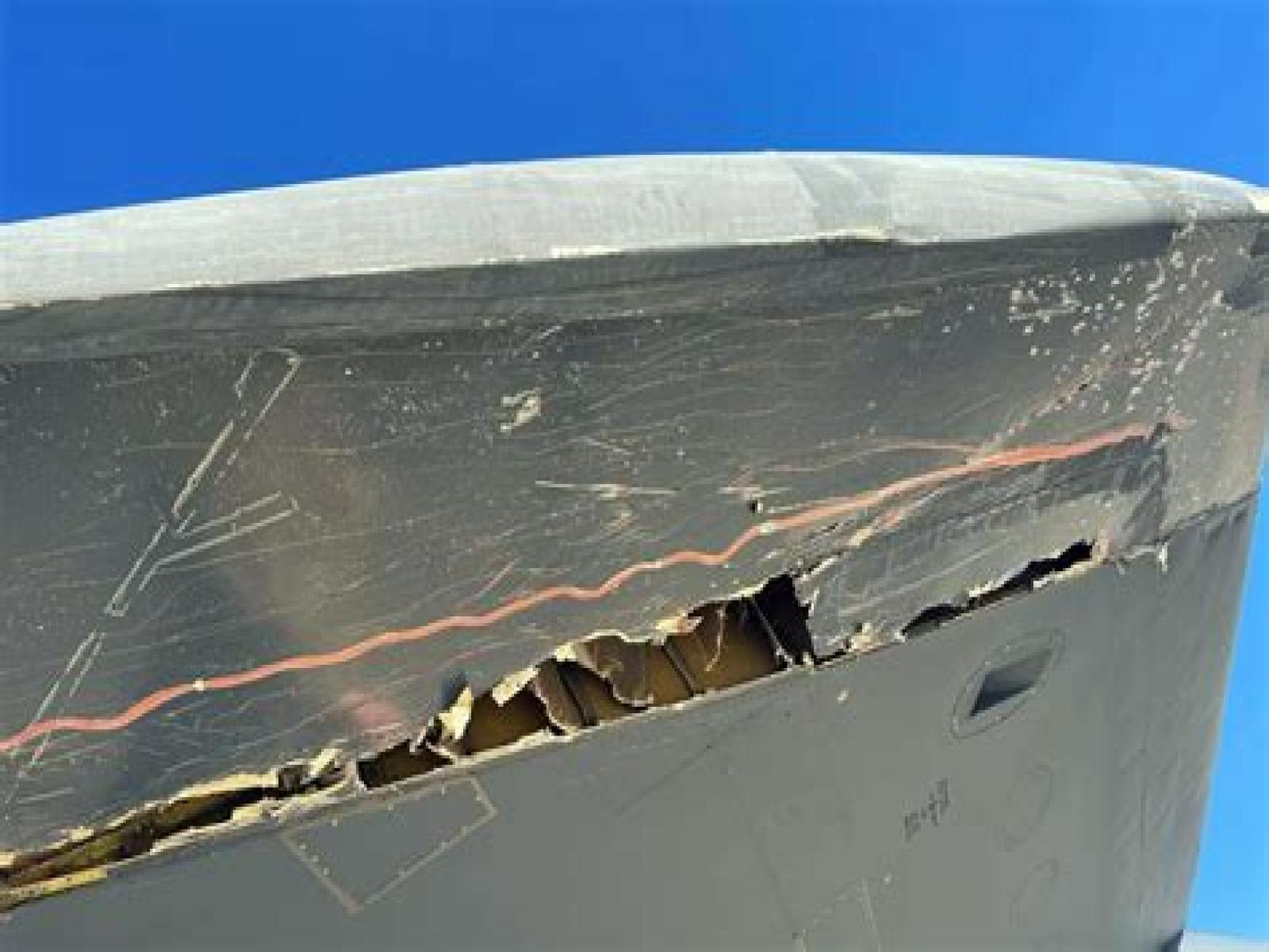Skin_Cover: (351, 574, 819, 784), (916, 542, 1087, 623)
Wing_damage: (0, 574, 817, 875), (902, 539, 1092, 633)
